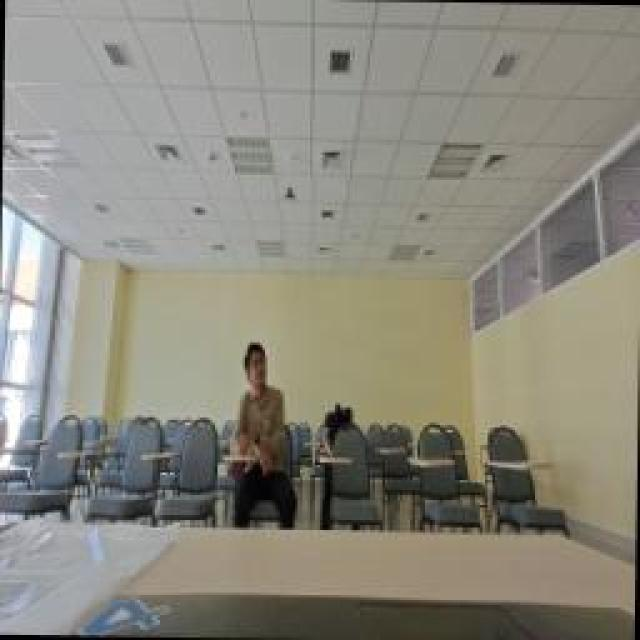sleep: (320, 388, 362, 462)
study: (225, 335, 297, 535)
